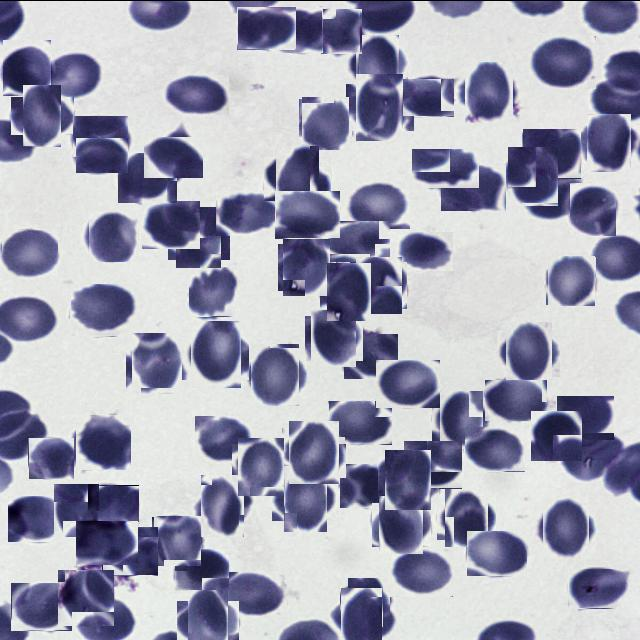red blood cell: (70, 283, 140, 336), (186, 324, 245, 383), (532, 35, 596, 88), (351, 78, 409, 136), (216, 571, 287, 616), (58, 568, 114, 625), (286, 424, 342, 481), (117, 150, 177, 203), (248, 346, 304, 402), (129, 335, 185, 391), (345, 180, 410, 228), (275, 190, 340, 238), (270, 150, 325, 206), (376, 359, 440, 407), (562, 432, 626, 480), (501, 325, 556, 380), (76, 414, 131, 469), (505, 148, 560, 203), (390, 548, 453, 596), (278, 470, 332, 526), (441, 164, 506, 210), (522, 128, 581, 178), (11, 582, 72, 630), (538, 500, 592, 554), (462, 65, 516, 119), (382, 452, 436, 506), (172, 210, 225, 264), (280, 240, 334, 293), (403, 440, 462, 488), (328, 400, 392, 444), (196, 479, 249, 532), (466, 530, 527, 576), (216, 190, 278, 235), (142, 200, 200, 248), (324, 220, 390, 262), (235, 440, 288, 492), (464, 426, 525, 471), (2, 229, 58, 278), (102, 526, 158, 575), (76, 520, 138, 564), (411, 148, 479, 188), (484, 378, 547, 421), (352, 38, 404, 90), (376, 498, 428, 550), (352, 258, 404, 310), (323, 264, 375, 316), (3, 39, 51, 95), (195, 415, 252, 462), (8, 495, 66, 541), (584, 116, 635, 168), (148, 130, 199, 182), (308, 312, 360, 363), (441, 492, 492, 543), (531, 410, 582, 461), (165, 74, 229, 114), (556, 395, 614, 439), (300, 97, 351, 147), (88, 210, 139, 260), (270, 5, 324, 52), (237, 6, 296, 49), (174, 548, 229, 594), (436, 394, 486, 444), (189, 266, 239, 316), (18, 90, 68, 140), (52, 484, 102, 534), (335, 593, 388, 640), (521, 178, 584, 217), (568, 568, 629, 608), (570, 182, 616, 235), (344, 333, 398, 378), (546, 256, 596, 304), (152, 516, 202, 564), (44, 53, 100, 95), (182, 595, 233, 640), (340, 463, 392, 507), (73, 115, 128, 156), (397, 231, 453, 270), (400, 78, 454, 116), (85, 484, 139, 522), (320, 8, 362, 54), (29, 437, 74, 479), (76, 137, 128, 172), (344, 580, 386, 622)
